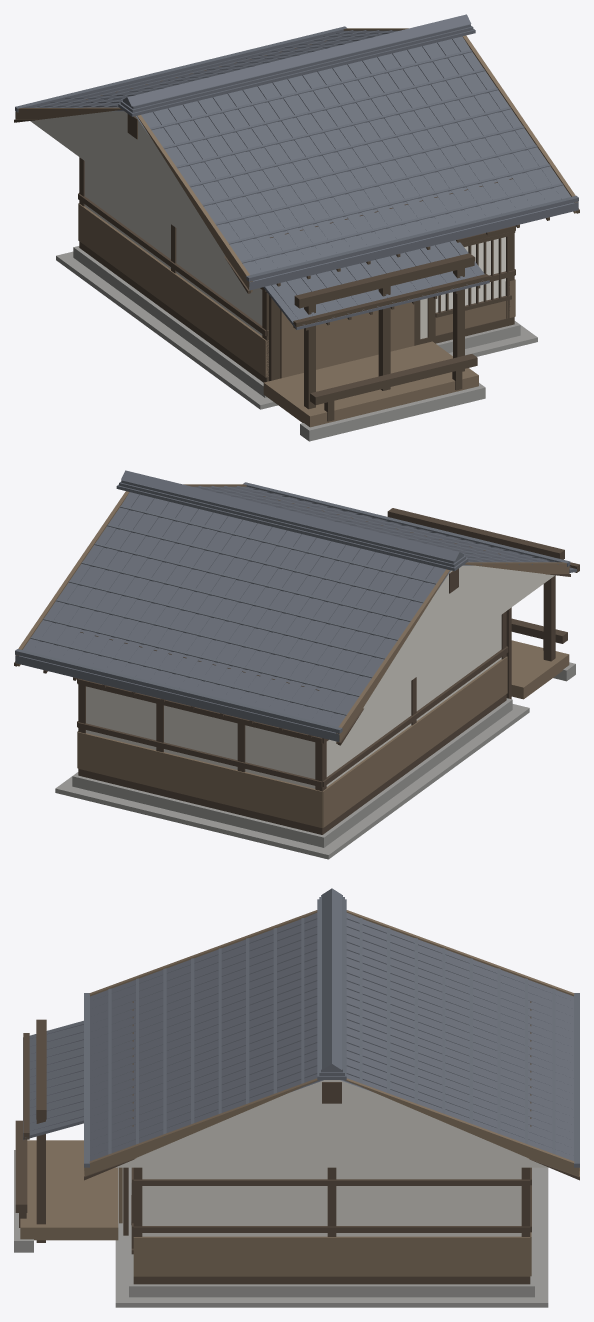
File: family_small_merchant_01.glb
3 views of the same model, one above another, from view 1: azimuth 30°, elevation 25°; view 2: azimuth 150°, elevation 25°; view 3: azimuth 270°, elevation 25° (orthographic). The views are drawn at different scales.
Parts seen in each view (by area): view 1: family_small_merchant_01; view 2: family_small_merchant_01; view 3: family_small_merchant_01.
Part boxes in pixels (x1,y1,x2,y2): family_small_merchant_01: [14, 14, 579, 441]; family_small_merchant_01: [14, 470, 579, 859]; family_small_merchant_01: [14, 888, 579, 1307].
Size of the model in its own units: 7.2 by 4.91 by 9.7.
